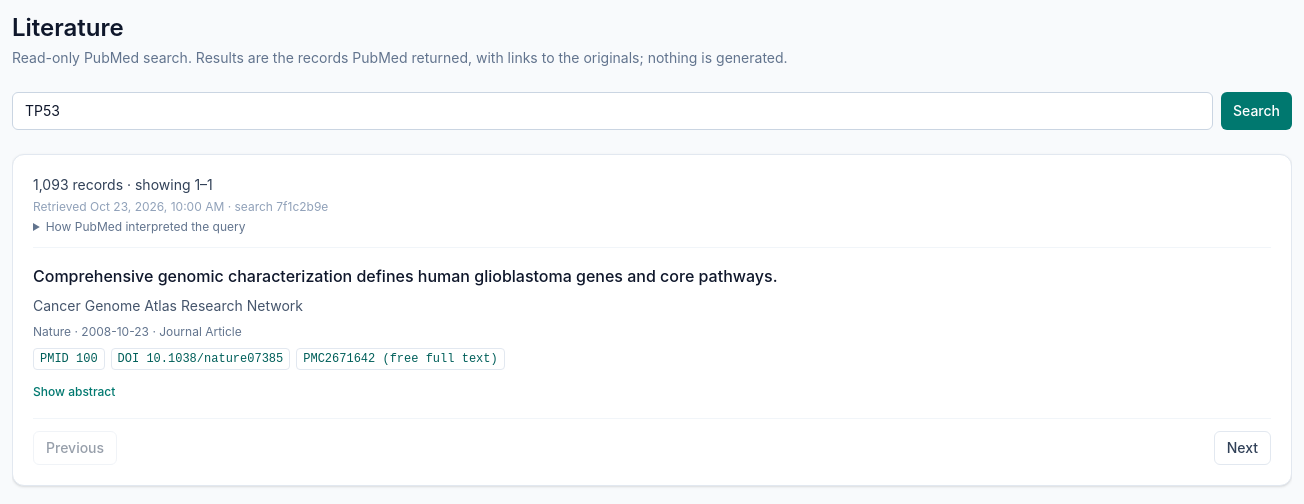
Test: LiteraturePage › pages through results via the URL offset
The image size is (1304, 504).
What coordinates should you click on to do the following:
click the button "Next"
I would click on:
 (1242, 448)
Its box is [1214, 431, 1271, 465].
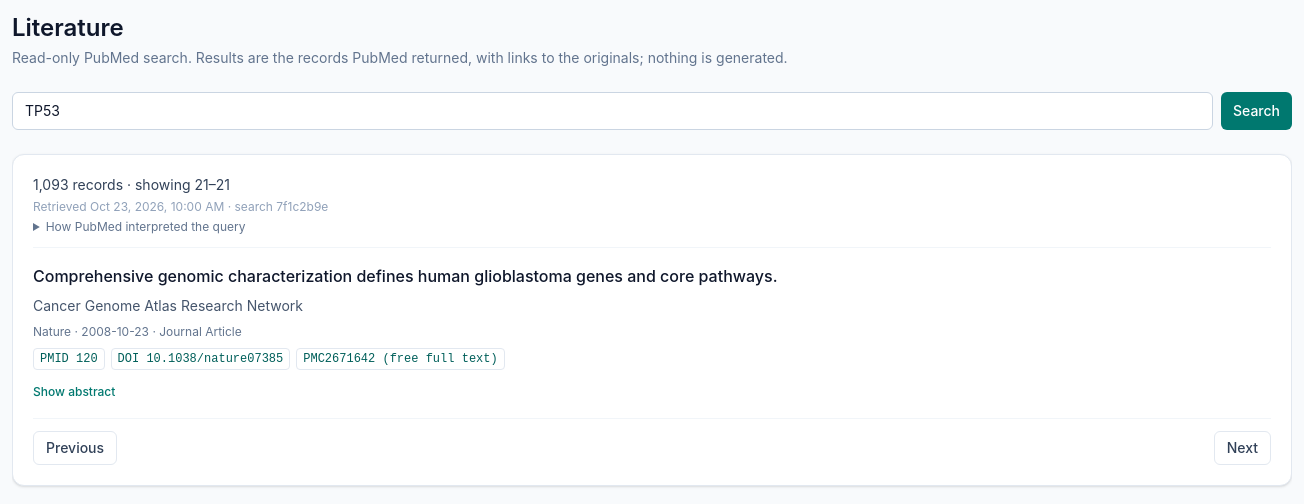
Check: the text "1,093 records · showing 21–21" is shown, box [33, 176, 230, 193]
Check: the button "Previous" is enabled, box [33, 431, 117, 465]
